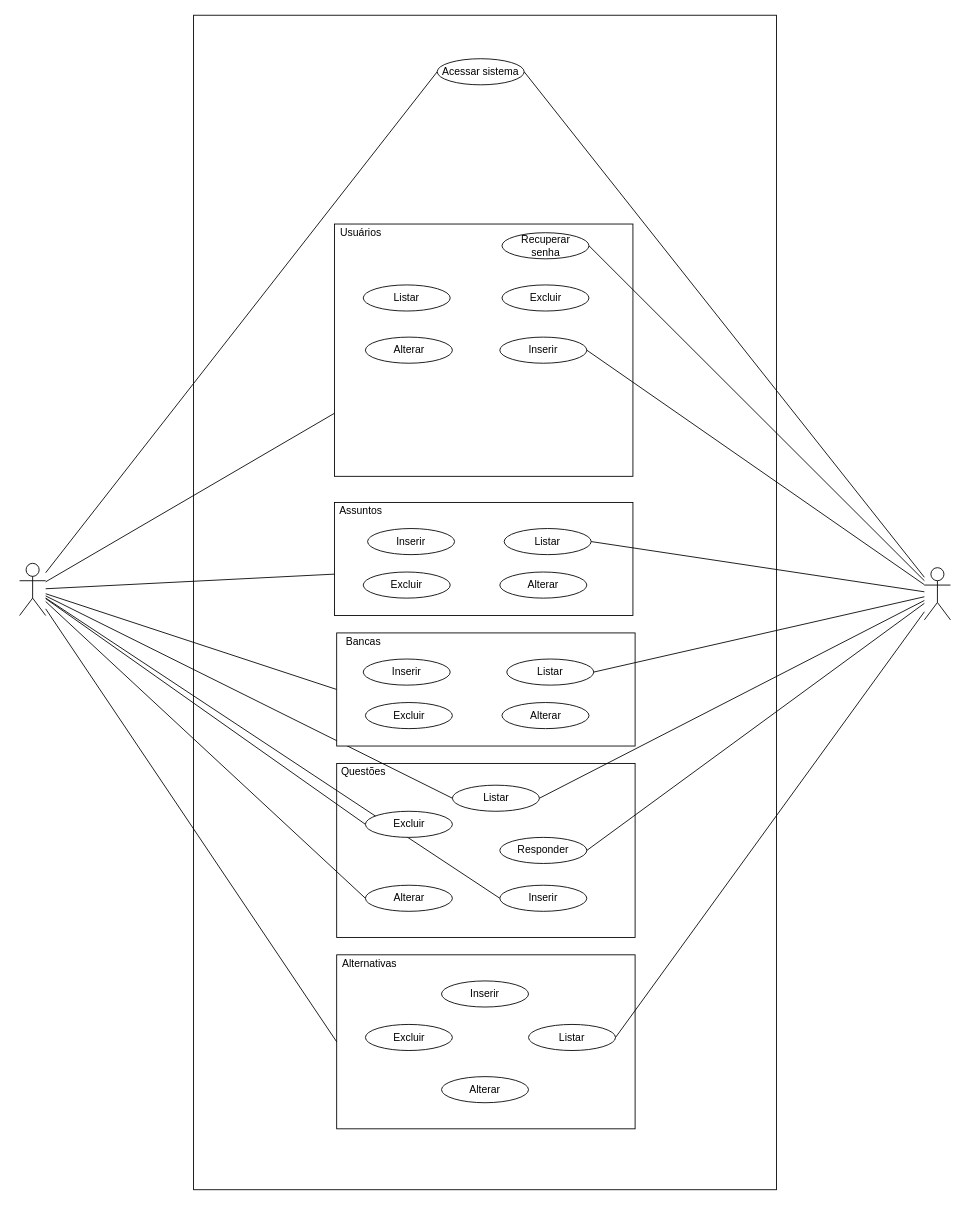
Some shapes in this 976 by 1205 pixel diagram are drawn without their labels. The box of each missing label's shape, as (x1, y1, x2, y2) in pixels:
Usuário Adm: (19, 562, 46, 616)
Usuário Estudante: (924, 567, 950, 620)
